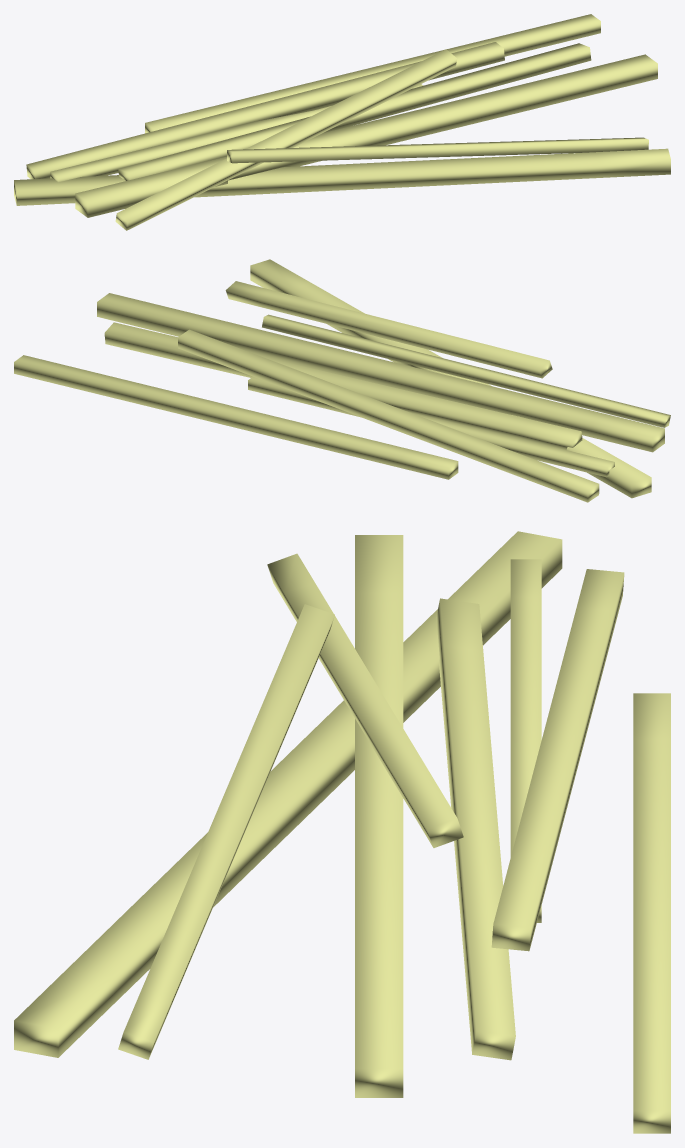
File: gringer chopped long.fbx
3 views of the same model, one above another, from view 1: azimuth 30°, elevation 25°; view 2: azimuth 150°, elevation 25°; view 3: azimuth 270°, elevation 25° (orthographic). The views are drawn at different scales.
Parts seen in each view (by area): view 1: Cube.004; view 2: Cube.004; view 3: Cube.004.
Boxes of the visible parts, bbox=[...] form: Cube.004: bbox=[14, 14, 670, 230]; Cube.004: bbox=[14, 259, 670, 502]; Cube.004: bbox=[14, 531, 670, 1133].
Size of the model in its own units: 58.09 by 6.25 by 28.05.
